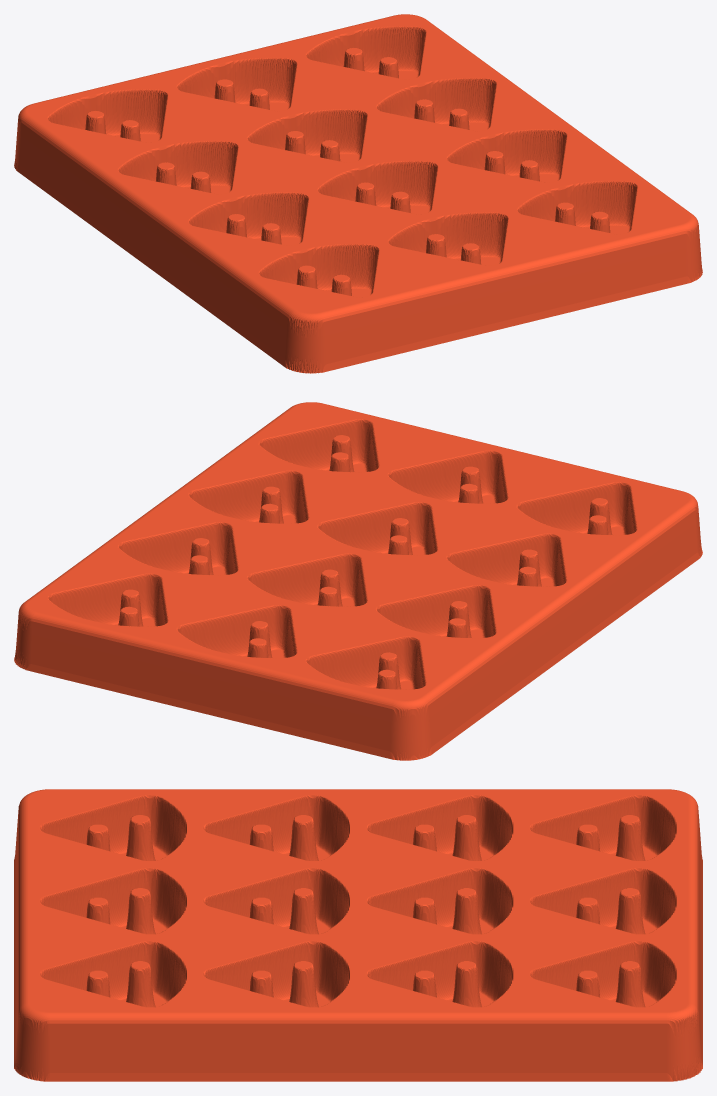
The model's file is mold.glb.
The picture shows the model from 3 angles, top to bottom: view 1: azimuth 30°, elevation 25°; view 2: azimuth 150°, elevation 25°; view 3: azimuth 270°, elevation 25°; orthographic projection. The views are drawn at different scales.
Visible parts, largest first — view 1: geometry_0; view 2: geometry_0; view 3: geometry_0.
Part boxes in pixels (bbox=[...]): geometry_0: bbox=[14, 14, 702, 373]; geometry_0: bbox=[14, 402, 702, 760]; geometry_0: bbox=[14, 789, 702, 1081].
Size of the model in its own units: 0.1389 by 0.0175 by 0.1726.
